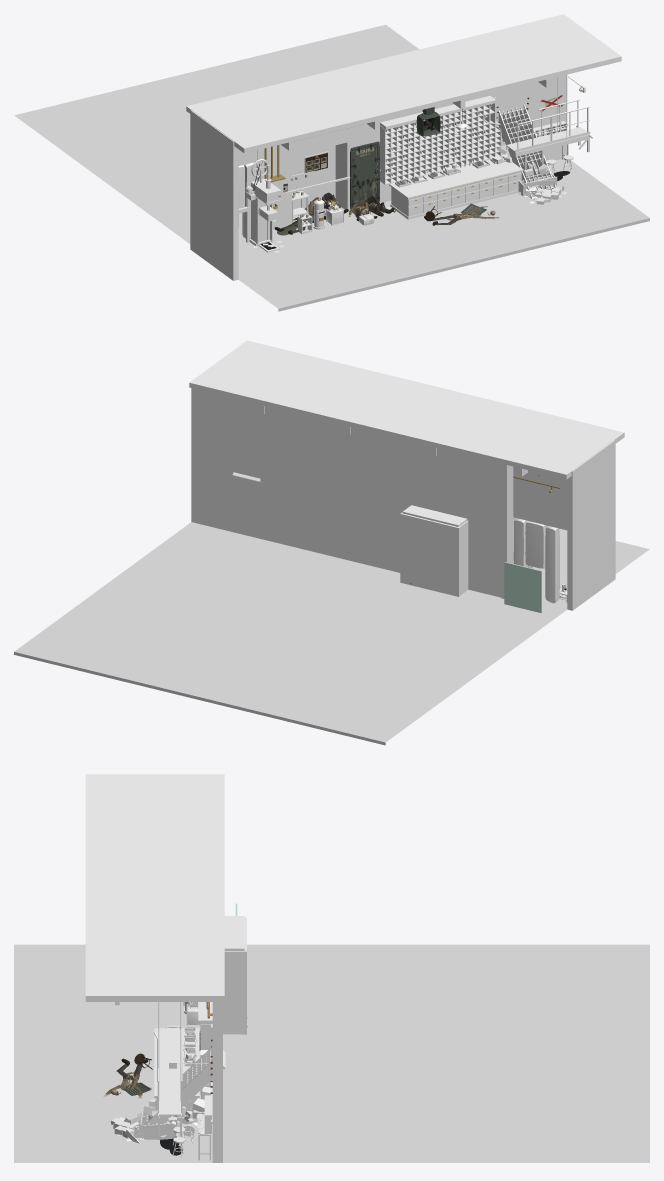
3 views of the same model, one above another, from view 1: azimuth 30°, elevation 25°; view 2: azimuth 150°, elevation 25°; view 3: azimuth 270°, elevation 25° (orthographic). The views are drawn at different scales.
Visible parts, largest first — view 1: Floor, SortHallCeiling, SortHallWalls, PigeonholeWall, SortTable, SortGantry, Collapse, FrankingPress, TableauDL02Remains, StoryWeldedDoor, SortHallDado, CollapseHeap (+1 smaller); view 2: Floor, SortHallWalls, SortHallCeiling, PassageGlow; view 3: Floor, SortHallCeiling, SortHallWalls, Collapse, SortTable, SortGantry, CollapseHeap, TableauDL02Remains, PigeonholeWall.
Part boxes in pixels (box(x1,y1,x2,y2)): Floor: box(14, 24, 649, 311); SortHallCeiling: box(186, 14, 621, 153); SortHallWalls: box(190, 75, 567, 280); PigeonholeWall: box(380, 96, 501, 184); SortTable: box(389, 156, 523, 219); SortGantry: box(497, 75, 590, 169); Collapse: box(498, 104, 557, 199); FrankingPress: box(245, 164, 283, 252); TableauDL02Remains: box(274, 192, 499, 235); StoryWeldedDoor: box(350, 141, 379, 209); SortHallDado: box(273, 123, 568, 229); CollapseHeap: box(501, 132, 560, 204); Floor: box(14, 522, 649, 745); SortHallWalls: box(191, 388, 615, 610); SortHallCeiling: box(189, 340, 624, 479); PassageGlow: box(504, 562, 541, 613); Floor: box(14, 944, 649, 1162); SortHallCeiling: box(85, 774, 224, 1001); SortHallWalls: box(212, 916, 246, 1162); Collapse: box(133, 1046, 225, 1139); SortTable: box(154, 1028, 199, 1110); SortGantry: box(153, 1002, 185, 1135); CollapseHeap: box(111, 1083, 210, 1138); TableauDL02Remains: box(103, 1017, 247, 1098); PigeonholeWall: box(198, 1002, 212, 1094).
Size of the model in its own units: 13.23 by 5.16 by 16.
44 materials, 10 textured.
